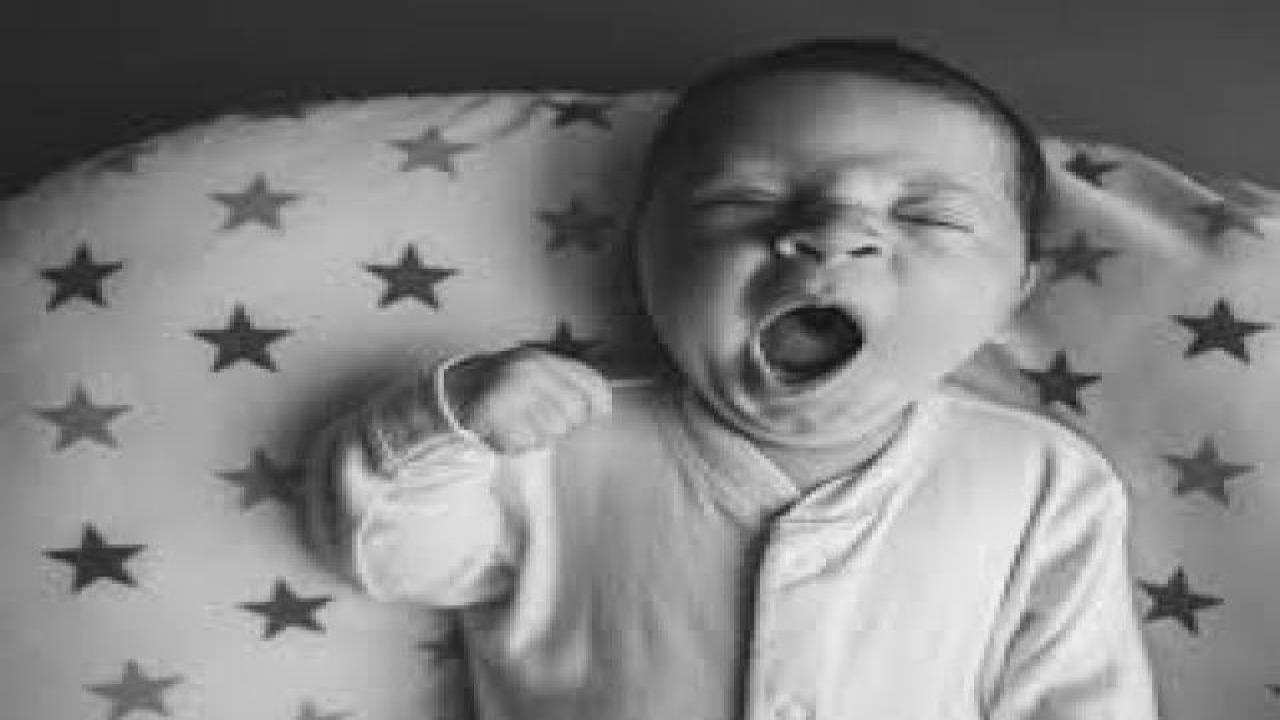hand: (461, 346, 628, 454)
